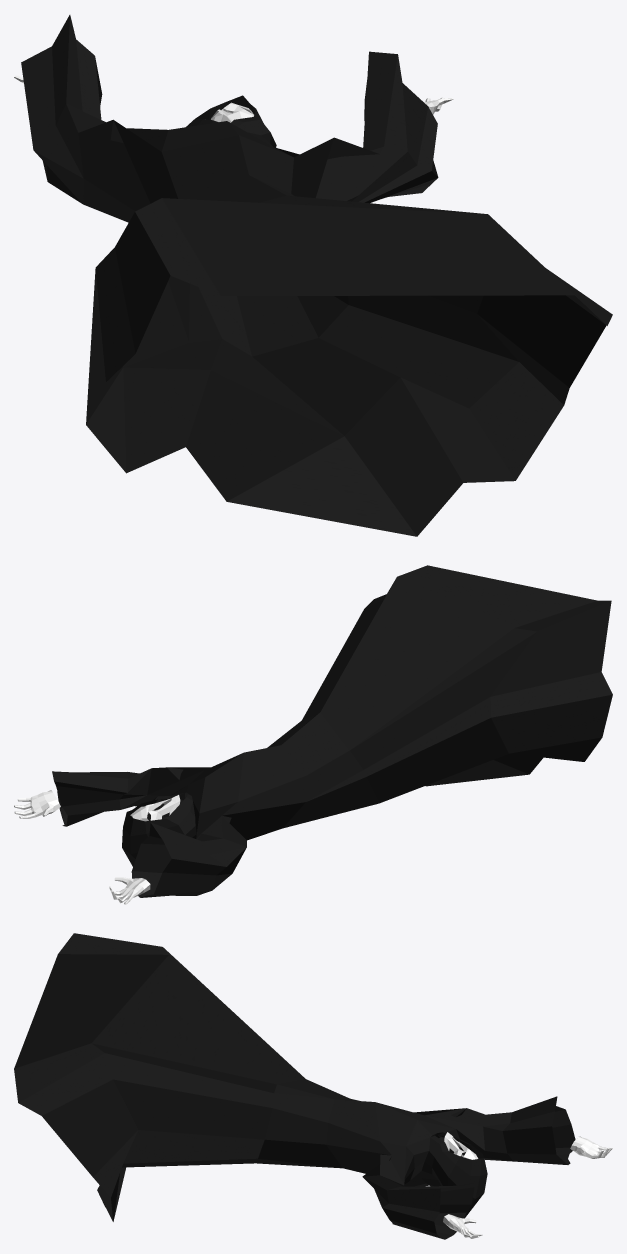
The model's file is ReaperDead(88).obj.
3 renders of one model, top to bottom at view 1: azimuth 30°, elevation 25°; view 2: azimuth 150°, elevation 25°; view 3: azimuth 270°, elevation 25°, orthographic. The views are drawn at different scales.
Visible parts, largest first — view 1: Plane003; view 2: Plane003; view 3: Plane003.
Part boxes in pixels (box(x1,y1,x2,y2)): Plane003: box(14, 15, 612, 536); Plane003: box(14, 565, 612, 904); Plane003: box(14, 933, 612, 1239).
Bounding box in the file's own units: 212 × 107 × 294.
